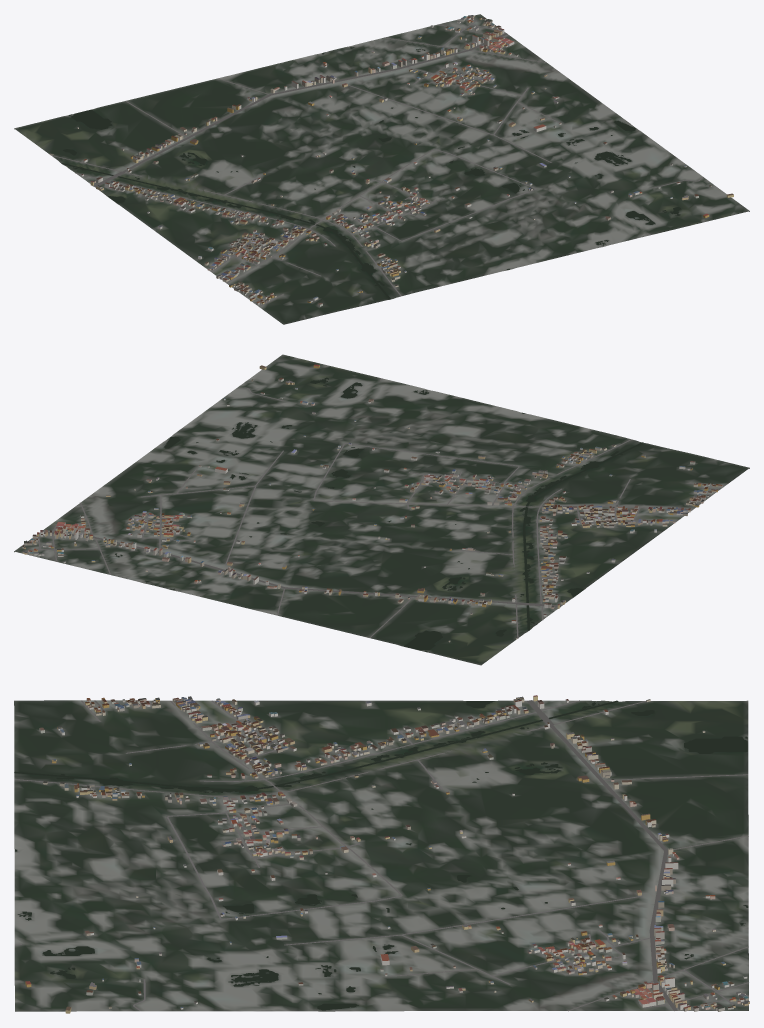
3 views of the same model, one above another, from view 1: azimuth 30°, elevation 25°; view 2: azimuth 150°, elevation 25°; view 3: azimuth 270°, elevation 25° (orthographic). The views are drawn at different scales.
Visible parts, largest first — view 1: ground, buildings, roads, water; view 2: ground, buildings, roads, water; view 3: ground, buildings, roads, water.
Boxes of the visible parts, box(x1,y1,x2,y2) form: ground: box(14, 14, 749, 324); buildings: box(49, 15, 733, 306); roads: box(51, 20, 703, 306); water: box(61, 47, 681, 299); ground: box(14, 354, 749, 665); buildings: box(22, 364, 722, 642); roads: box(29, 378, 724, 638); water: box(115, 377, 643, 651); ground: box(14, 700, 748, 1011); buildings: box(25, 695, 749, 1013); roads: box(14, 700, 748, 1011); water: box(14, 700, 748, 1010).
Bounding box in the file's own units: 1419 × 26.32 × 1405.
